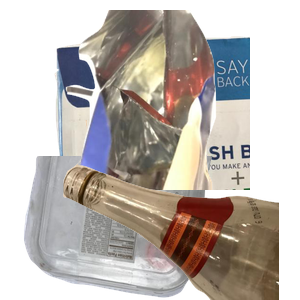glass: (60, 120, 300, 300)
paper: (52, 34, 292, 214)
plastic: (21, 156, 226, 300)
trash: (63, 10, 300, 190)
